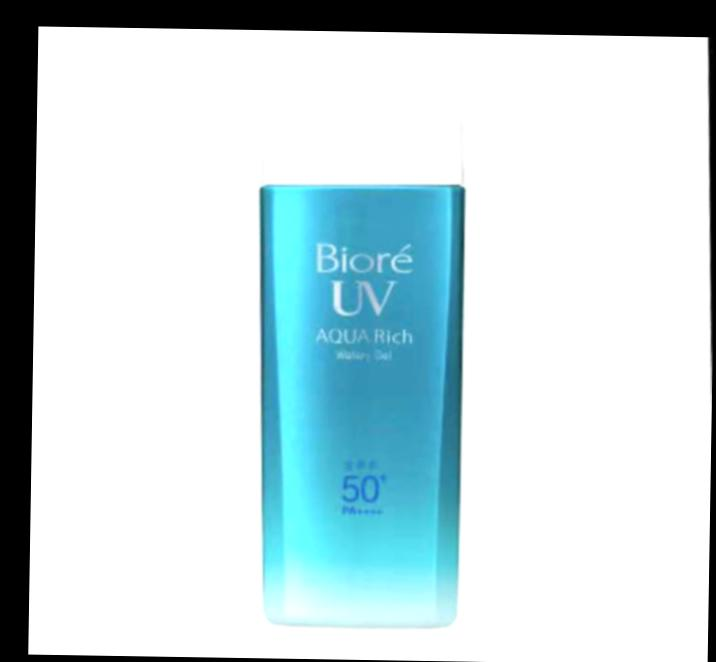cosmetic: (241, 49, 477, 631)
